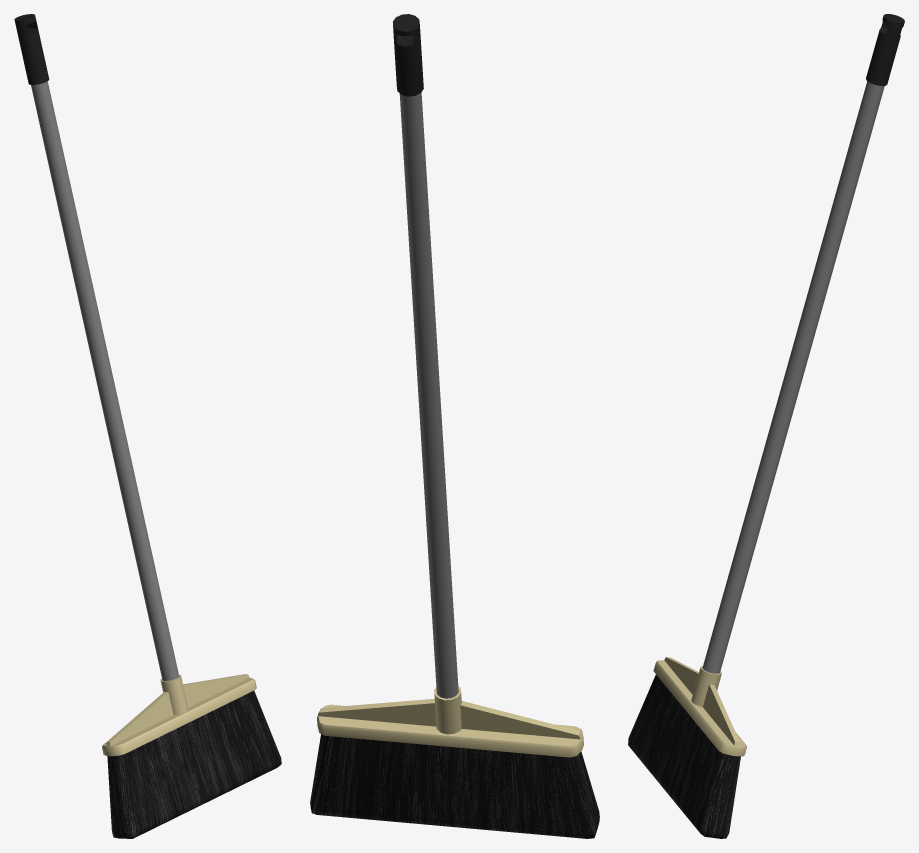
The model's file is toilet_broom.FBX.
3 views of the same model, side by side, from view 1: azimuth 30°, elevation 25°; view 2: azimuth 150°, elevation 25°; view 3: azimuth 270°, elevation 25° (orthographic). The views are drawn at different scales.
Parts seen in each view (by area): view 1: toilet_broom; view 2: toilet_broom; view 3: toilet_broom.
Boxes of the visible parts, box(x1,y1,x2,y2) form: toilet_broom: box(14, 14, 281, 838); toilet_broom: box(310, 14, 599, 838); toilet_broom: box(628, 14, 904, 838).
Bounding box in the file's own units: 37.91 × 136 × 45.81.
1 material, 1 textured.
